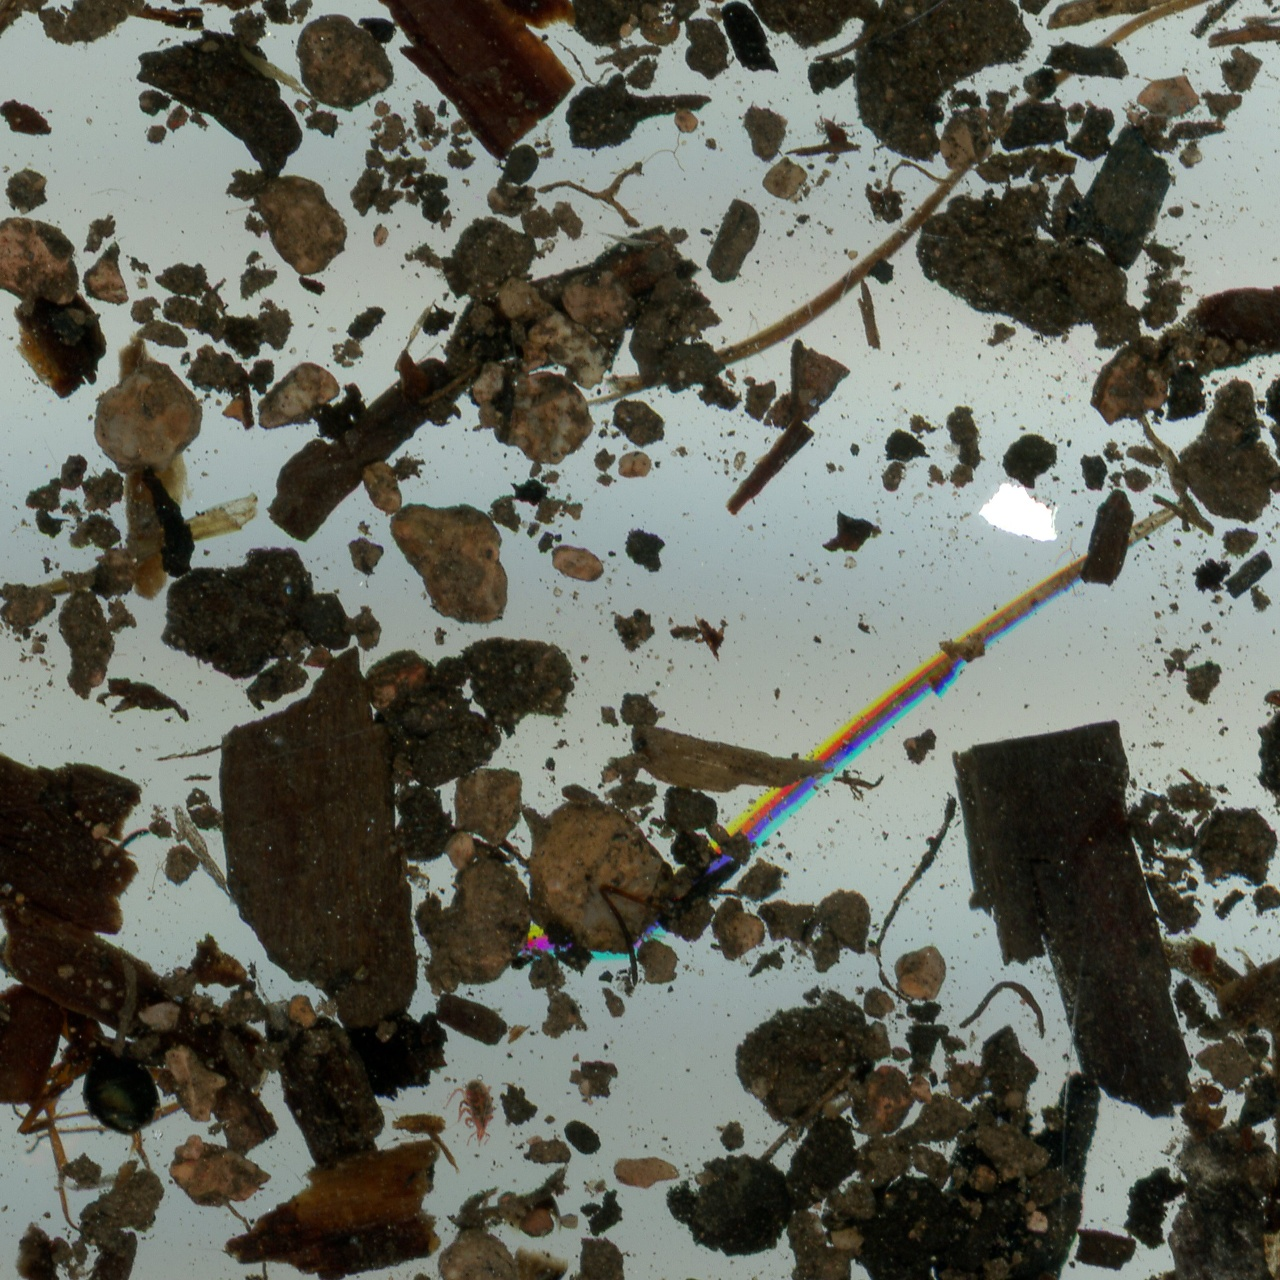arthropod: (0, 793, 340, 1275), (597, 838, 747, 993), (441, 1074, 500, 1150), (809, 108, 858, 157), (1190, 1071, 1232, 1110), (1259, 685, 1280, 722)
